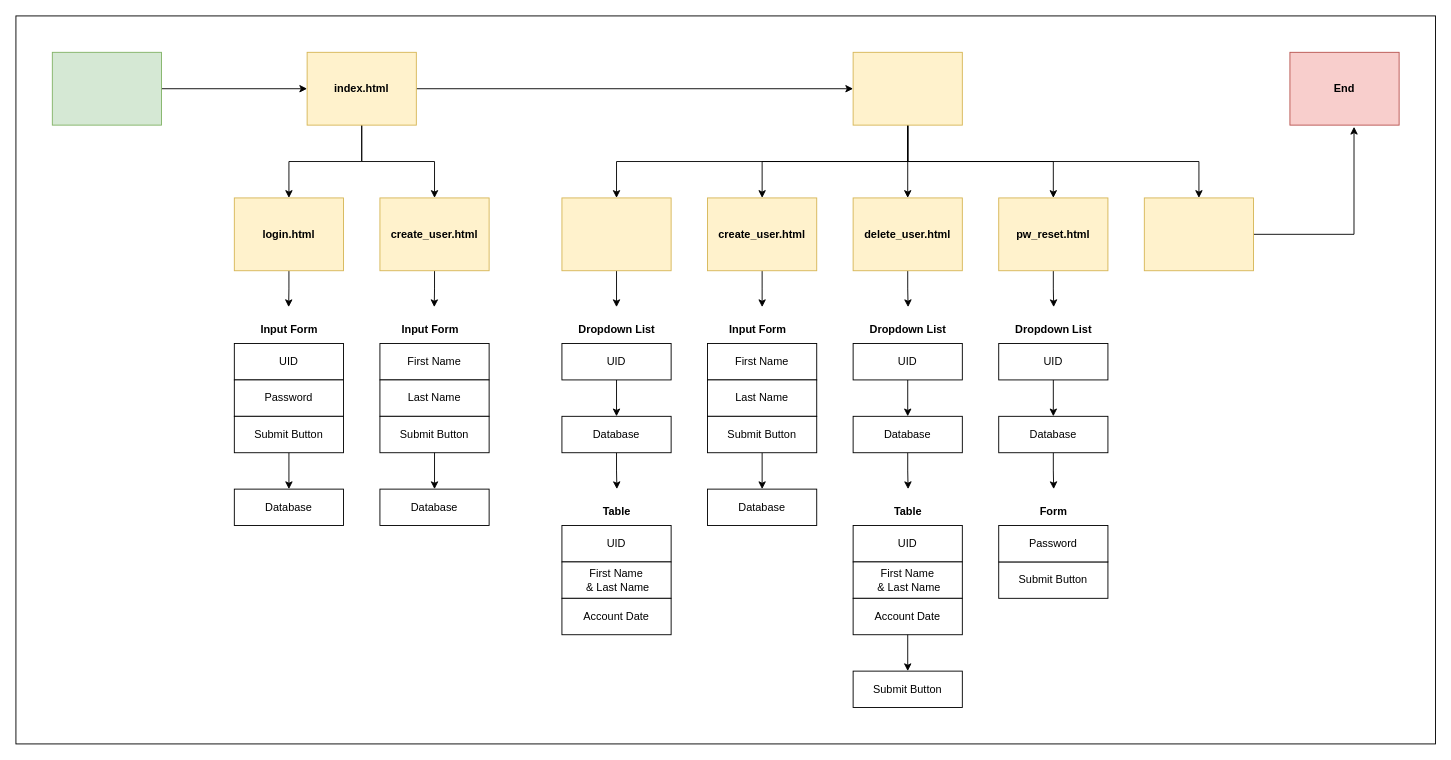
Some shapes in this 1451 by 760 pixel diagram are drawn without their labels. Here are the shapes that lost their labels. From the top down, the centre of each, then its label:
pixel 106 88: Start
pixel 907 88: umc.html
pixel 616 234: view_users.html
pixel 1198 234: logout.html
